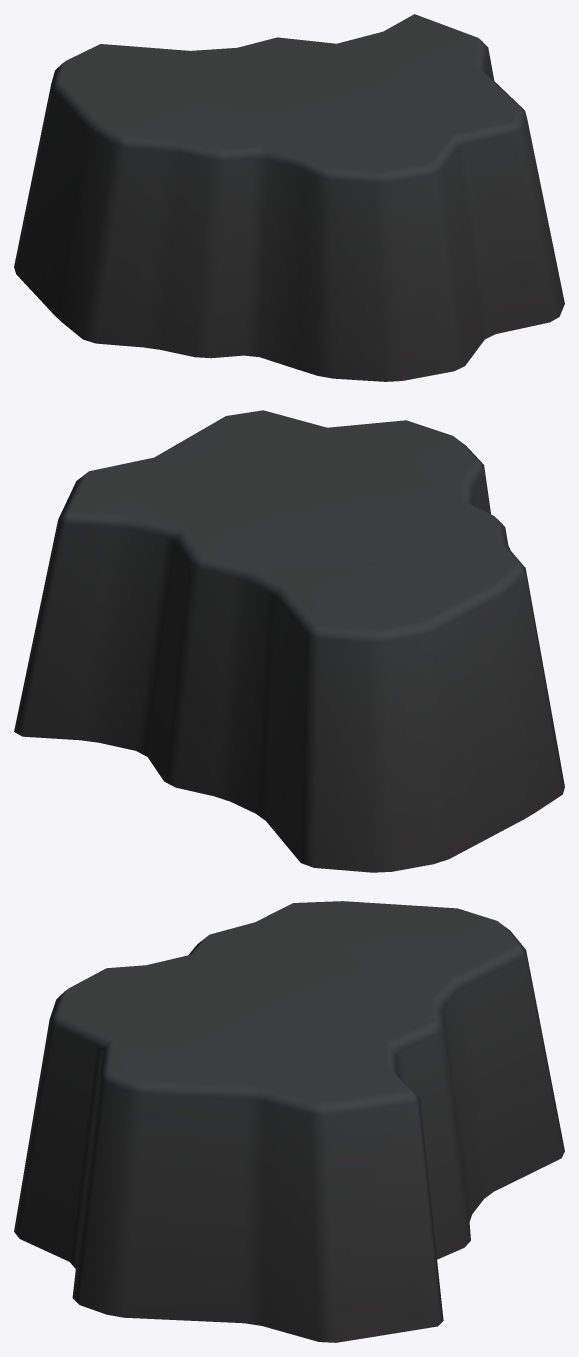
File: PlatformSmall_003.glb
3 views of the same model, one above another, from view 1: azimuth 30°, elevation 25°; view 2: azimuth 150°, elevation 25°; view 3: azimuth 270°, elevation 25° (orthographic). The views are drawn at different scales.
Parts seen in each view (by area): view 1: PlatformSmall_003; view 2: PlatformSmall_003; view 3: PlatformSmall_003.
Boxes of the visible parts, x1,y1,x2,y2 form: PlatformSmall_003: [14, 14, 564, 381]; PlatformSmall_003: [14, 410, 564, 872]; PlatformSmall_003: [14, 901, 564, 1342].
Size of the model in its own units: 31.85 by 13.14 by 30.24.
Materials: 1 (1 with a texture image).
